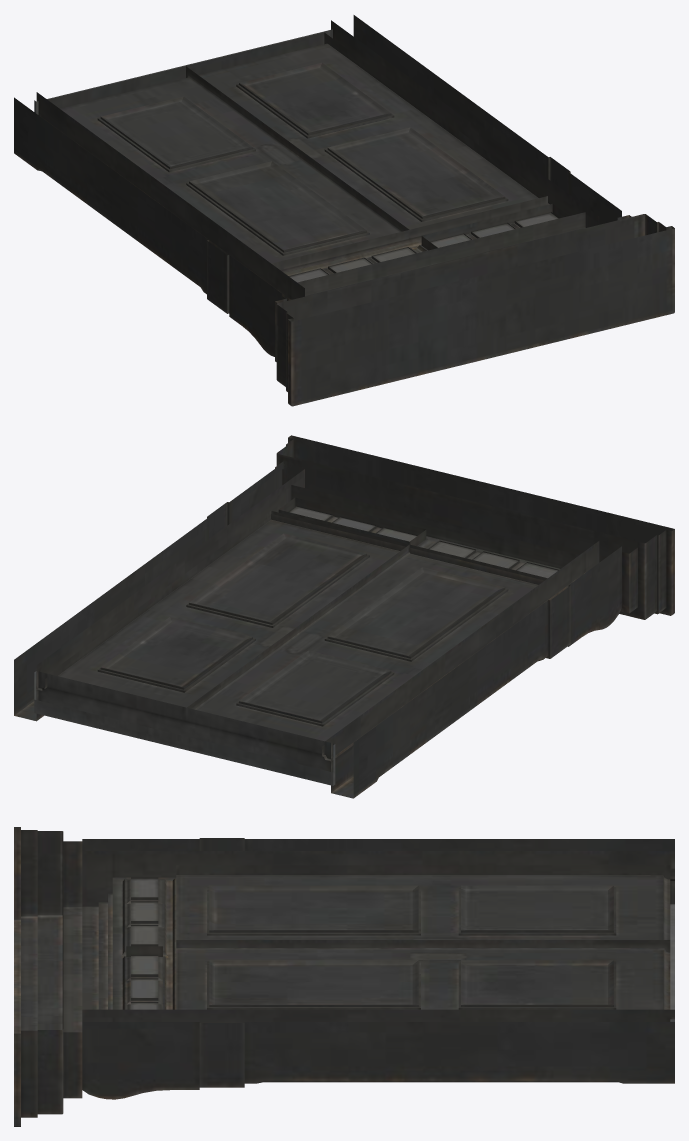
File: door_centered_large_01.gltf
3 views of the same model, one above another, from view 1: azimuth 30°, elevation 25°; view 2: azimuth 150°, elevation 25°; view 3: azimuth 270°, elevation 25° (orthographic). The views are drawn at different scales.
Parts seen in each view (by area): view 1: door_centered_large_01; view 2: door_centered_large_01; view 3: door_centered_large_01.
Part boxes in pixels (bbox=[...]): door_centered_large_01: bbox=[14, 15, 674, 406]; door_centered_large_01: bbox=[14, 435, 674, 798]; door_centered_large_01: bbox=[14, 827, 674, 1126].
Bounding box in the file's own units: 2.08 × 0.44 × 2.81.
Materials: 2 (2 with a texture image).
